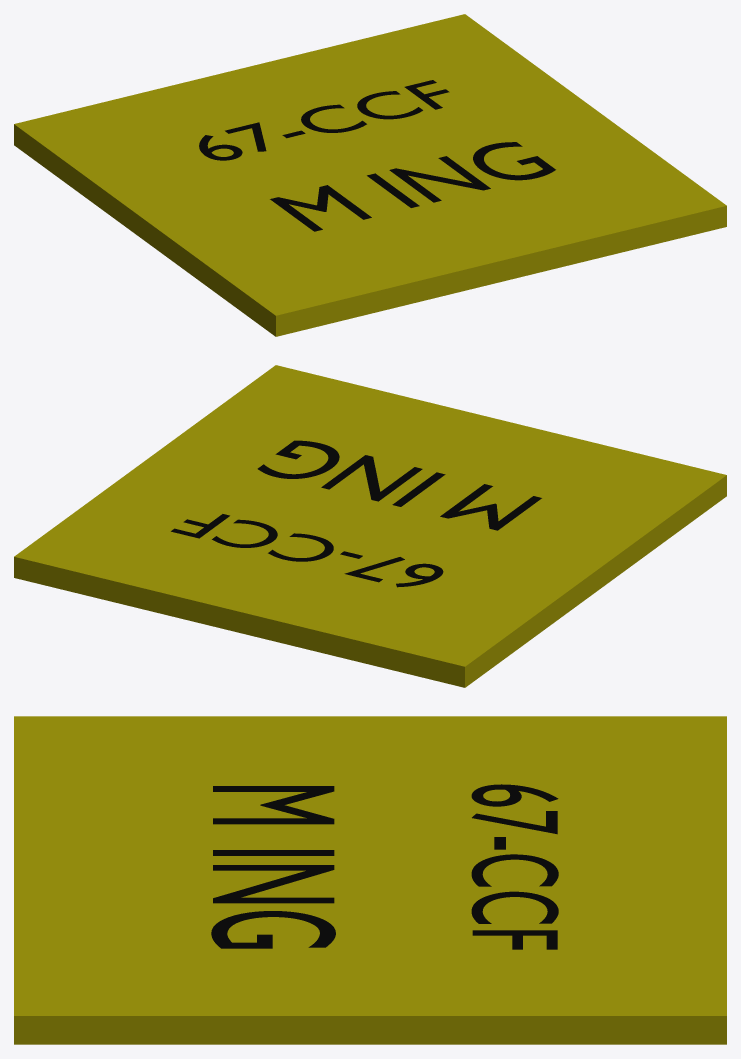
Rendered from renault_ccfm_topB.glb.
The picture shows the model from 3 angles, top to bottom: view 1: azimuth 30°, elevation 25°; view 2: azimuth 150°, elevation 25°; view 3: azimuth 270°, elevation 25°; orthographic projection. The views are drawn at different scales.
Parts seen in each view (by area): view 1: Cube.003, Text.007, Text.008; view 2: Cube.003, Text.007, Text.008; view 3: Cube.003, Text.007, Text.008.
Part boxes in pixels (<box>): Cube.003: <box>14,14,726,336</box>; Text.007: <box>270,142,555,231</box>; Text.008: <box>199,80,449,160</box>; Cube.003: <box>14,365,726,687</box>; Text.007: <box>257,440,541,530</box>; Text.008: <box>171,514,443,587</box>; Cube.003: <box>14,716,726,1044</box>; Text.007: <box>211,786,335,948</box>; Text.008: <box>471,784,558,949</box>.
Bounding box in the file's own units: 1.99 × 0.1031 × 2.
